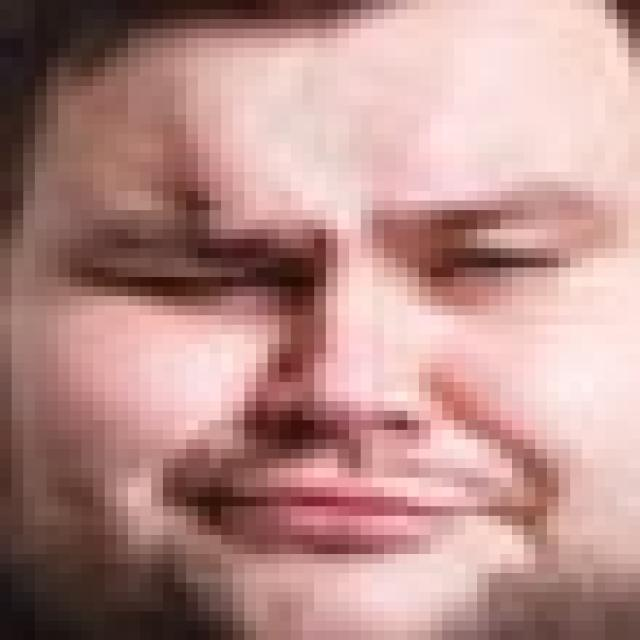Anxiety: (2, 0, 628, 630)
